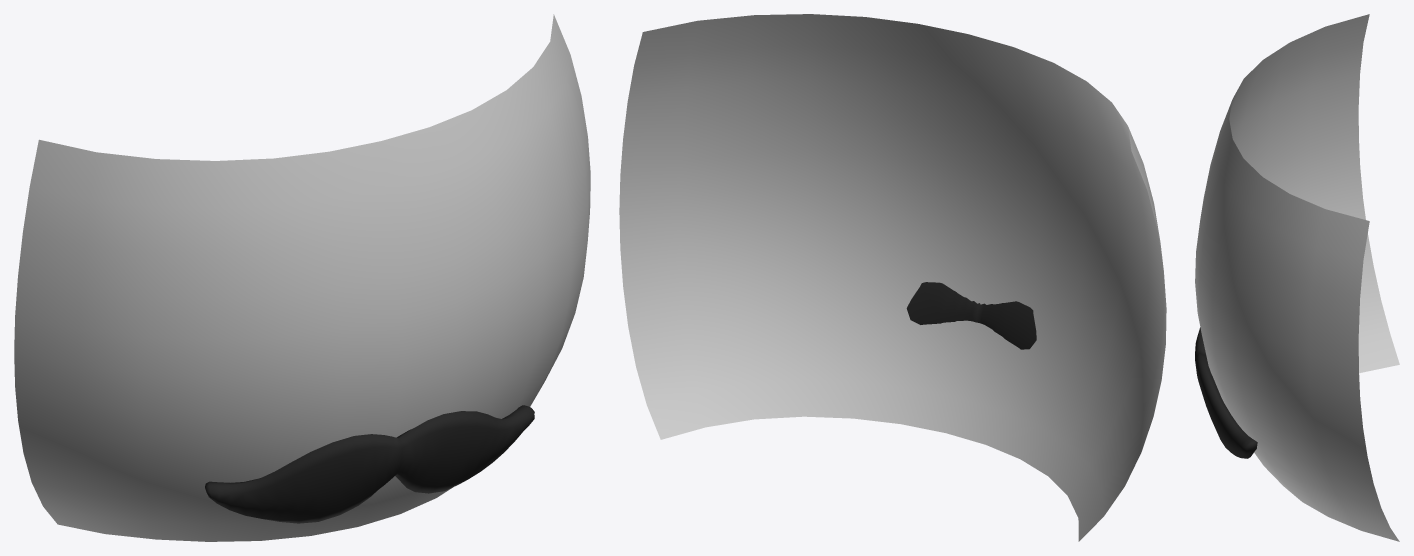
Rendered from Mustache Face.fbx.
The picture shows the model from 3 angles, left to right: view 1: azimuth 30°, elevation 25°; view 2: azimuth 150°, elevation 25°; view 3: azimuth 270°, elevation 25°; orthographic projection. The views are drawn at different scales.
Visible parts, largest first — view 1: Mustache Face; view 2: Mustache Face; view 3: Mustache Face.
Boxes of the visible parts, x1,y1,x2,y2 form: Mustache Face: (14, 14, 590, 541); Mustache Face: (619, 14, 1166, 541); Mustache Face: (1195, 14, 1399, 541).
Size of the model in its own units: 55.82 by 37.73 by 20.87.
